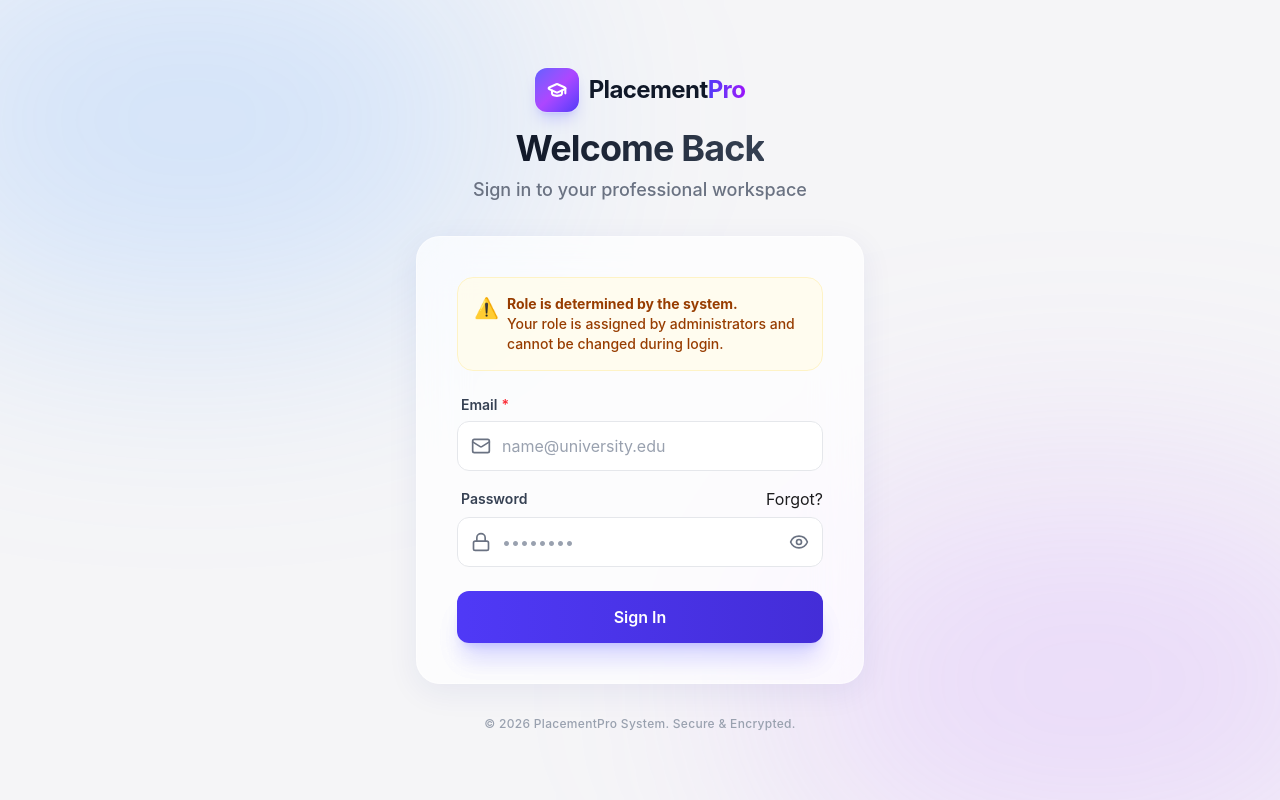
Test case: LoginPage › Error Messages › shows deactivated account error
The image size is (1280, 800).
Type "user@test.edu" into the field with placeholder "name@university.edu" at (640,446), box [457, 421, 823, 471]
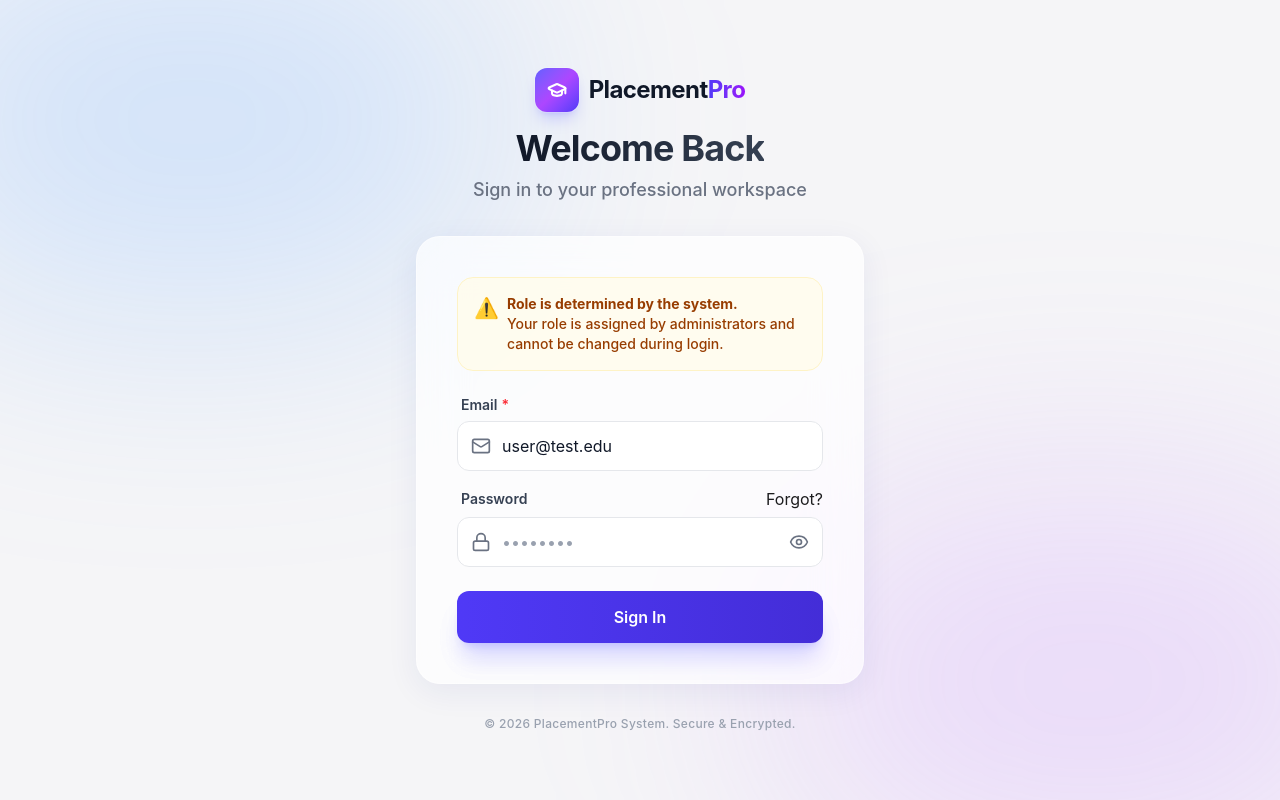
Type "password123" into the password field with placeholder "••••••••" at (640,542), box [457, 517, 823, 567]
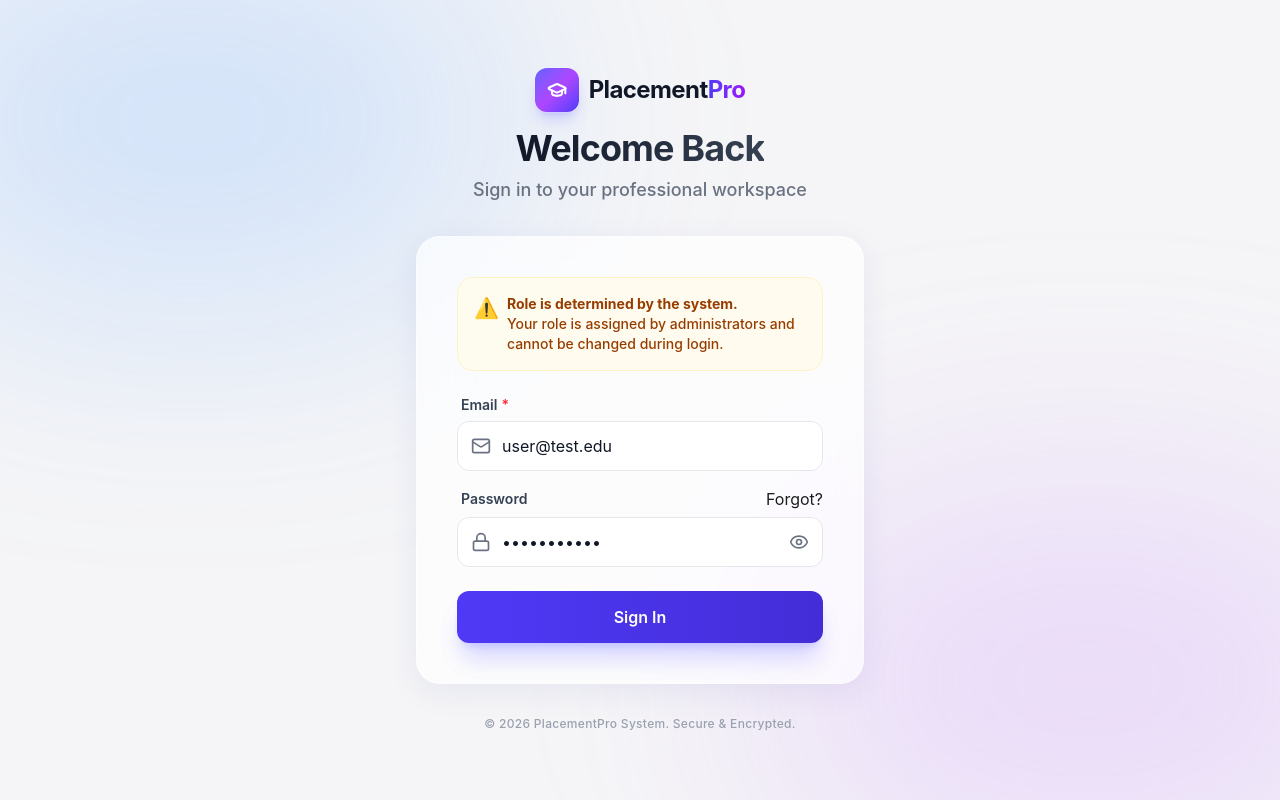
Submit the form named "sign in", box [457, 277, 823, 643]
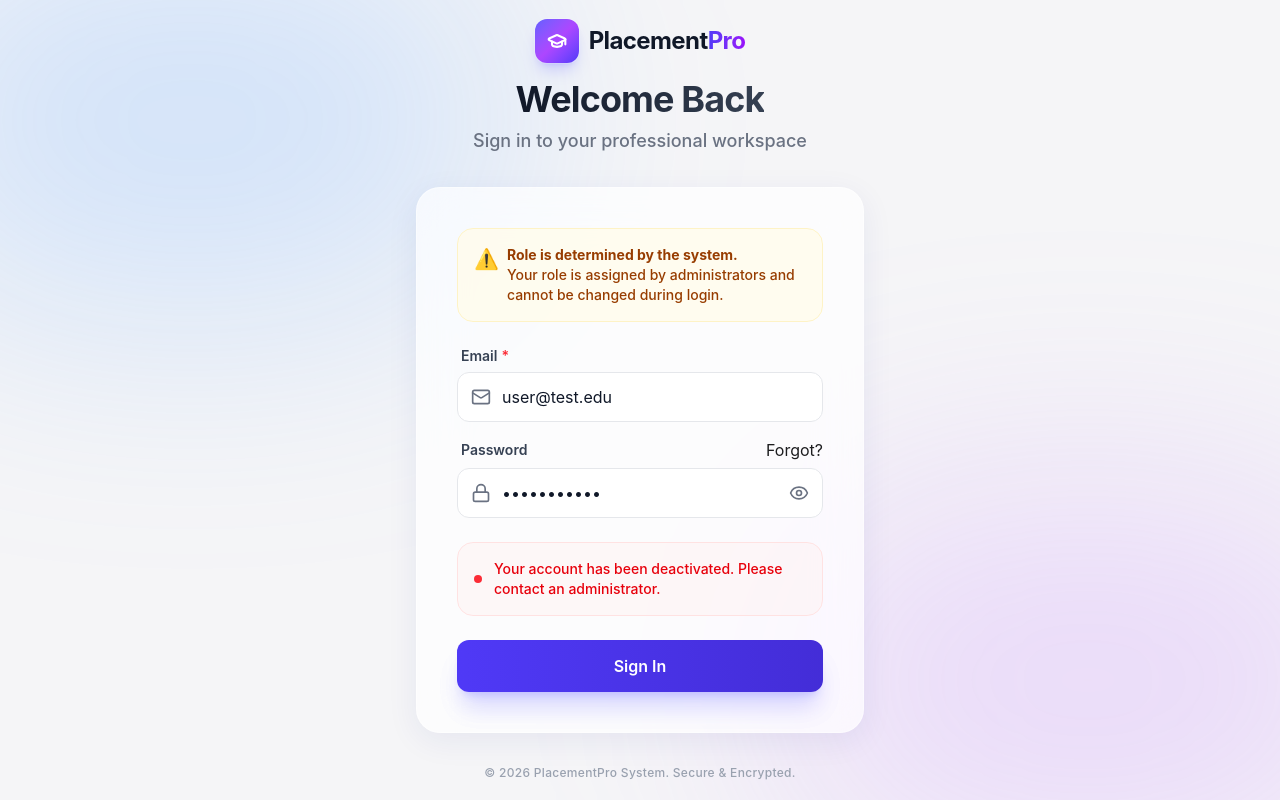
Check: the text "account has been deactivated" is shown, box [494, 560, 782, 597]
